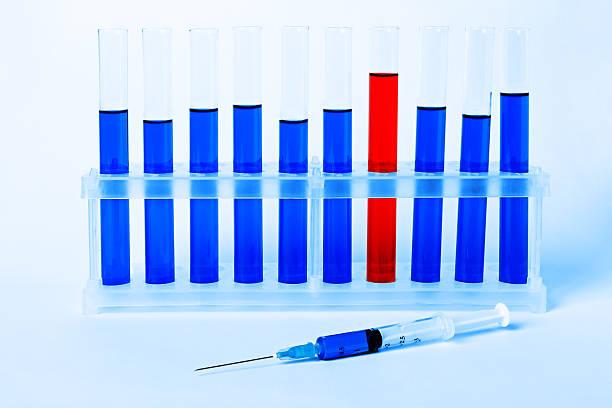Test tube: (90, 19, 177, 285), (185, 22, 228, 284), (364, 11, 402, 278), (495, 20, 527, 287), (279, 18, 309, 283)
